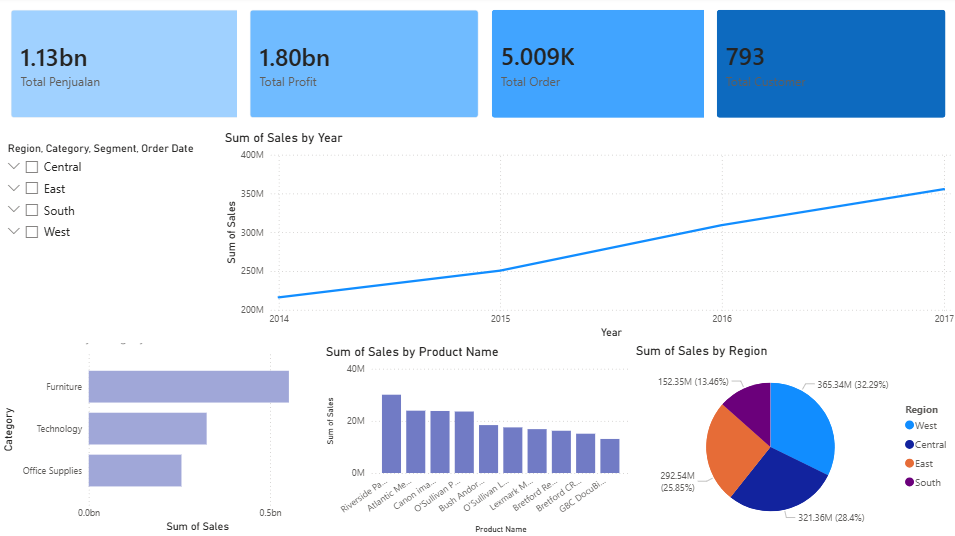

The dashboard page shown, as its layout file describes it:
{"tool":"powerbi","page":{"name":"Page 1","canvas":[1280,720],"ordinal":0},"visuals":[{"type":"cardVisual","title":"Total Penjualan","fields":{"Data":["Sum(Superstore.Sales)"]},"box":[0,0,339.1,178],"z":0},{"type":"cardVisual","title":"Total Profit","fields":{"Data":["Sum(Superstore.Profit)"]},"box":[318.7,0,339.1,178],"z":1000},{"type":"cardVisual","title":"Total Order","fields":{"Data":["Count(Superstore.Order ID)"]},"box":[640.8,0,339.1,178],"z":2000},{"type":"cardVisual","title":"Total Customer","fields":{"Data":["Count(Superstore.Customer ID)"]},"box":[940.9,0,339.1,178],"z":3000},{"type":"clusteredBarChart","fields":{"Category":["Superstore.Category"],"Y":["Sum(Superstore.Sales)"]},"box":[0,444.2,431.4,275.3],"z":4000},{"type":"pieChart","fields":{"Category":["Superstore.Region"],"Y":["Sum(Superstore.Sales)"]},"box":[845.8,461.2,434.2,258.3],"z":5000},{"type":"columnChart","fields":{"Category":["Superstore.Product Name"],"Y":["Sum(Superstore.Sales)"]},"box":[432,463,415,257],"z":6000},{"type":"slicer","fields":{"Values":["Superstore.Region","Superstore.Category","Superstore.Segment","Superstore.Order Date"]},"box":[0,187.9,298,274.3],"z":7000},{"type":"lineChart","fields":{"Y":["Sum(Superstore.Sales)"],"Category":["Superstore.Order Date.Variation.Date Hierarchy.Year","Superstore.Order Date.Variation.Date Hierarchy.Month"]},"box":[298,177.8,982,282.8],"z":8000}]}

Visuals, with their boxes in screenshot pixels (x1, y1, x2, y2), scaled from the page's 1280x720 canvas onto the 955x536 screenshot:
"Total Penjualan" cardVisual: locate(0, 0, 253, 133)
"Total Profit" cardVisual: locate(238, 0, 491, 133)
"Total Order" cardVisual: locate(478, 0, 731, 133)
"Total Customer" cardVisual: locate(702, 0, 954, 133)
clusteredBarChart - Superstore.Category x Sum(Superstore.Sales): locate(0, 331, 322, 535)
pieChart - Superstore.Region x Sum(Superstore.Sales): locate(631, 343, 954, 535)
columnChart - Superstore.Product Name x Sum(Superstore.Sales): locate(322, 345, 632, 535)
slicer - Superstore.Region x Superstore.Category: locate(0, 140, 222, 344)
lineChart - Sum(Superstore.Sales) x Superstore.Order Date.Variation.Date Hierarchy.Year: locate(222, 132, 954, 343)
